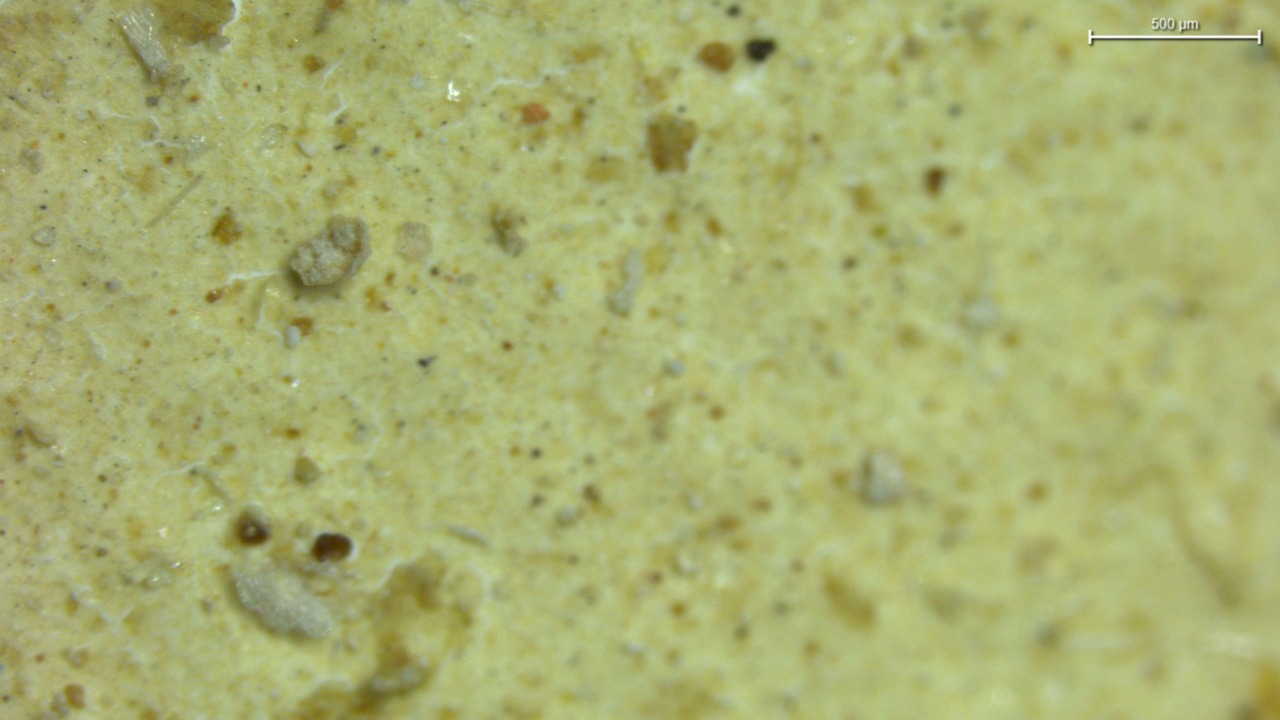microplastic_fragment: (290, 216, 369, 286)
